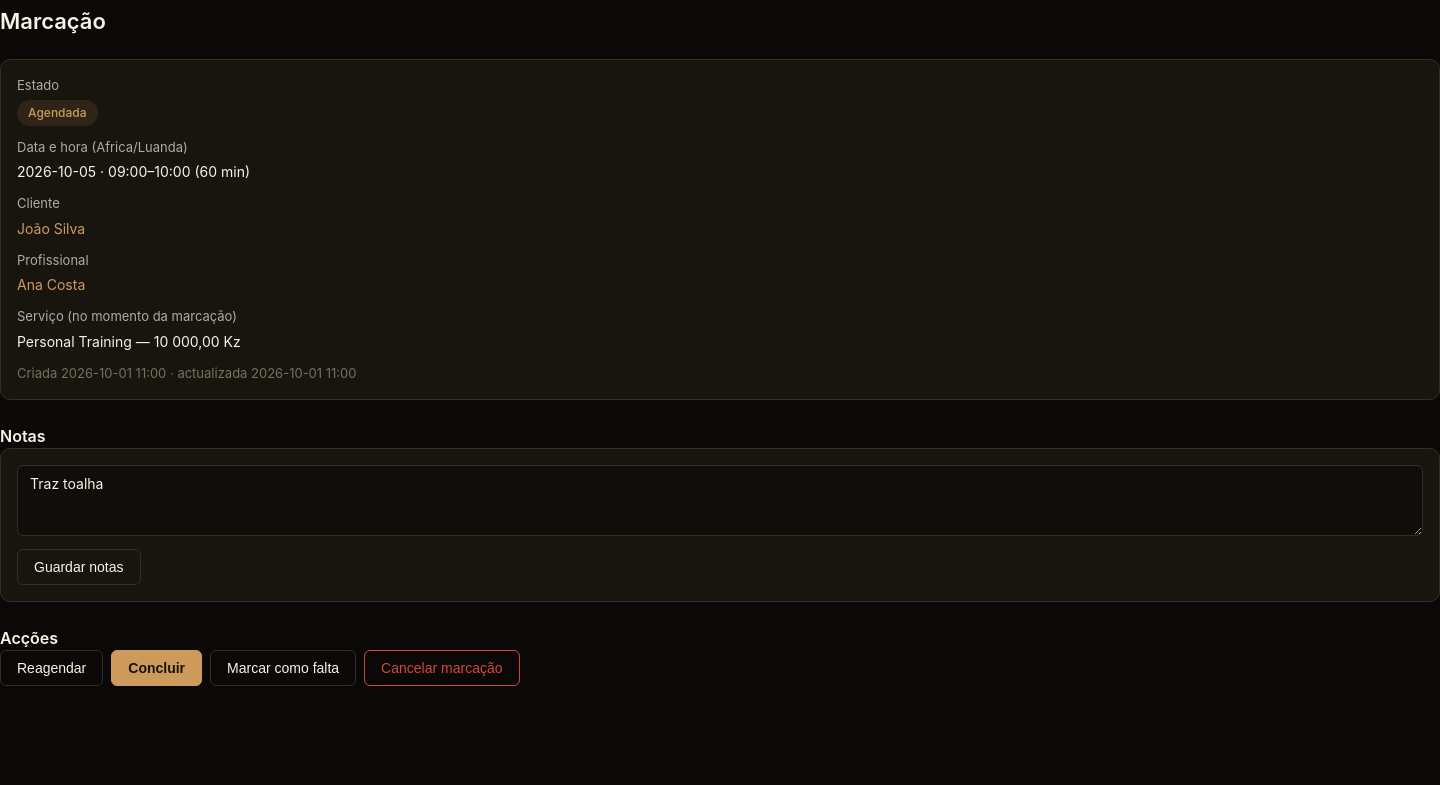
Test case: Appointment detail › reschedule: slots from the API for the SAME service; can move to another associated professional; PATCH carries only startAt/professionalId
Click the button "Reagendar": (52, 668) [0,650,103,686]
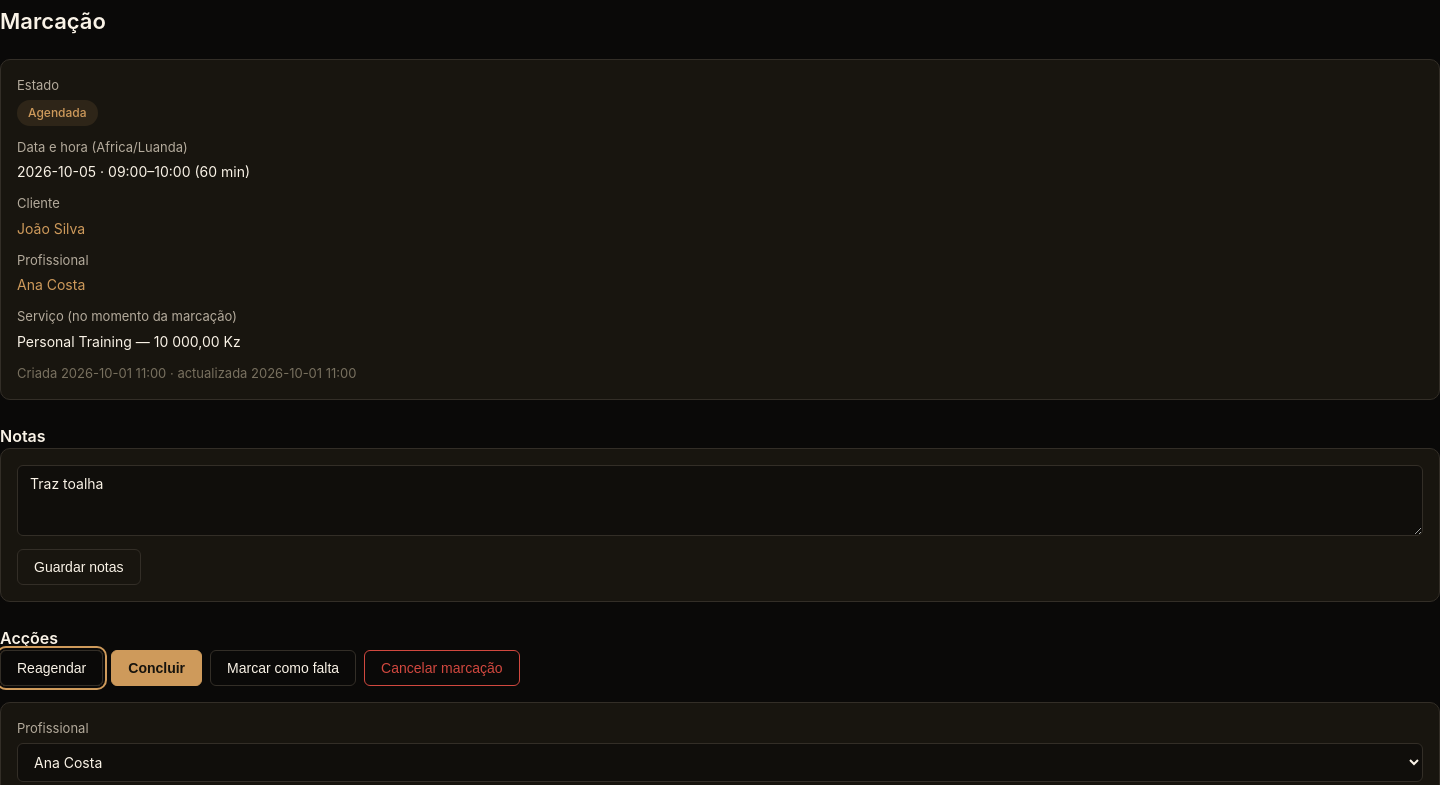
Select "Bruno Dias" in the dropdown labelled "Profissional": (720, 762) [17,743,1423,782]
(page scrolled)
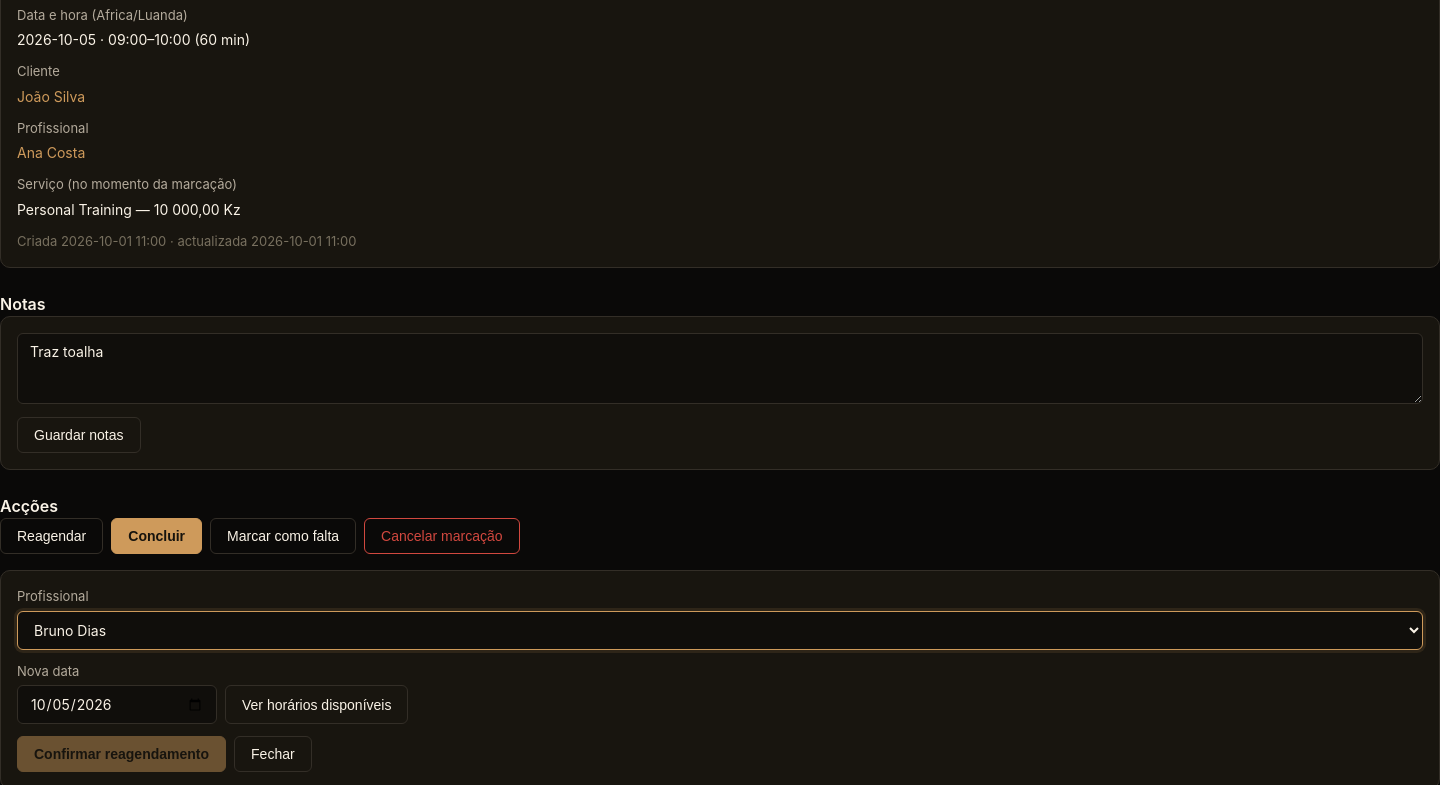
In the date field labelled "Nova data": (117, 705) [17,685,217,724], type "2026-10-06"
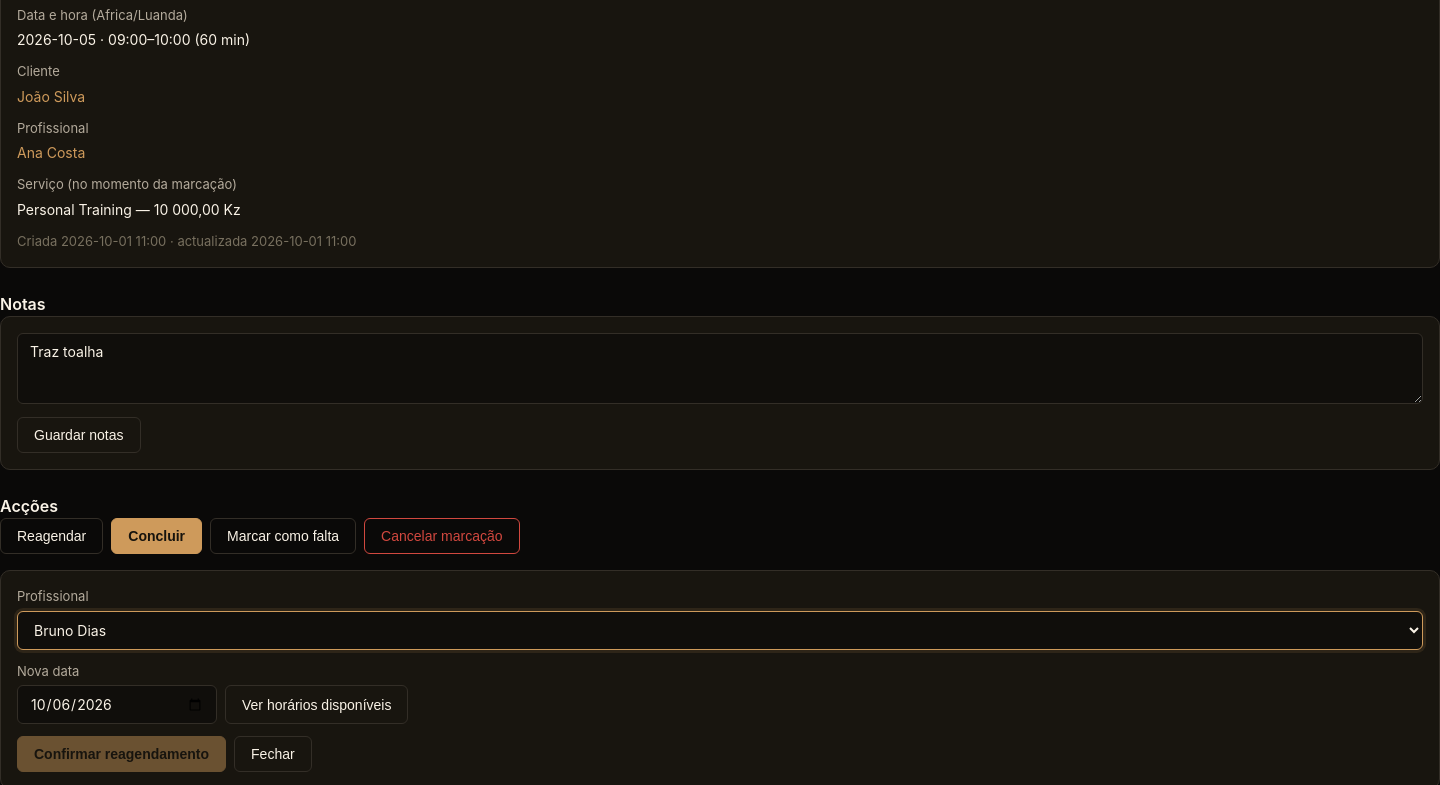
Click the button "Ver horários disponíveis": (317, 705) [225,685,408,724]
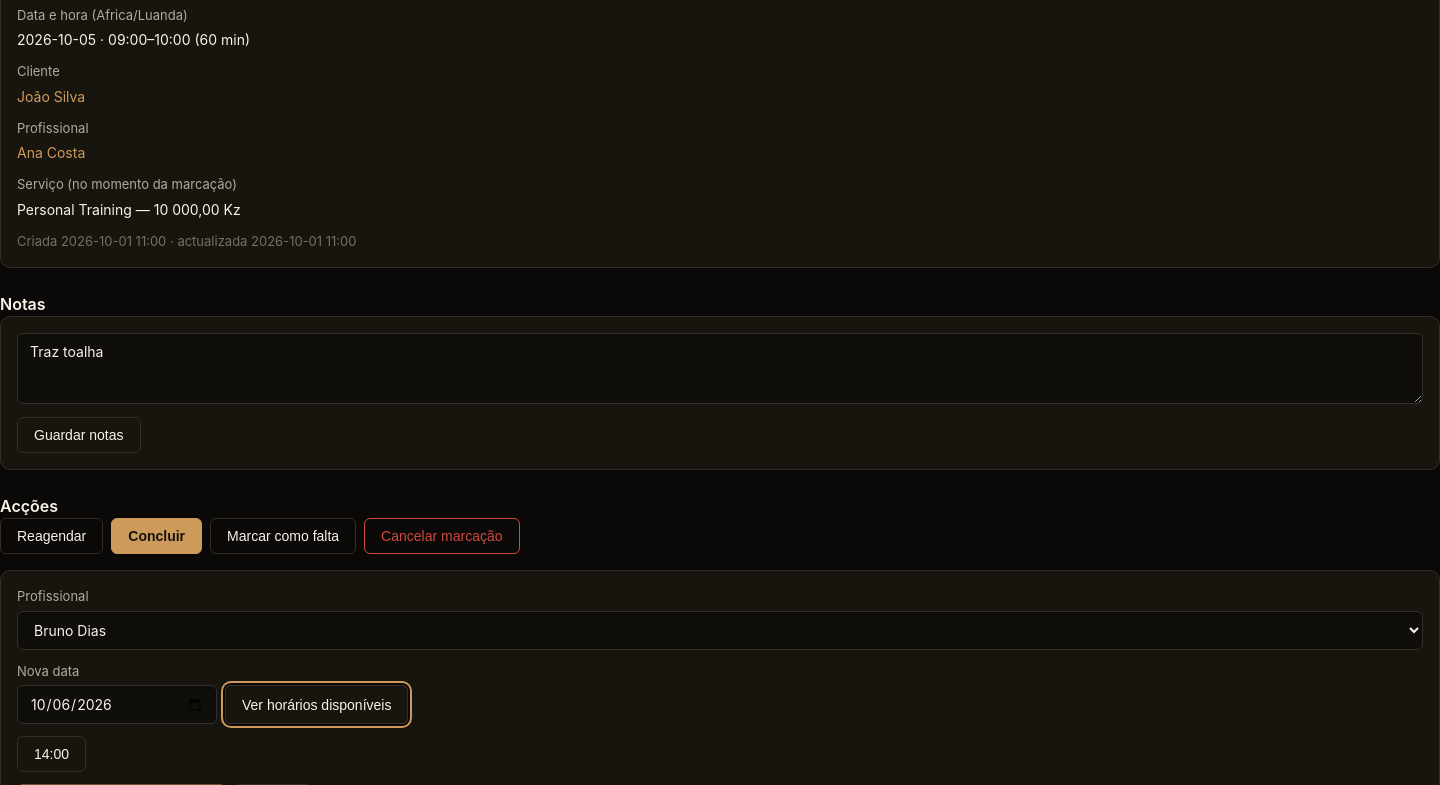
Click the radio button labelled "14:00": (52, 754) [17,736,86,772]
(page scrolled)
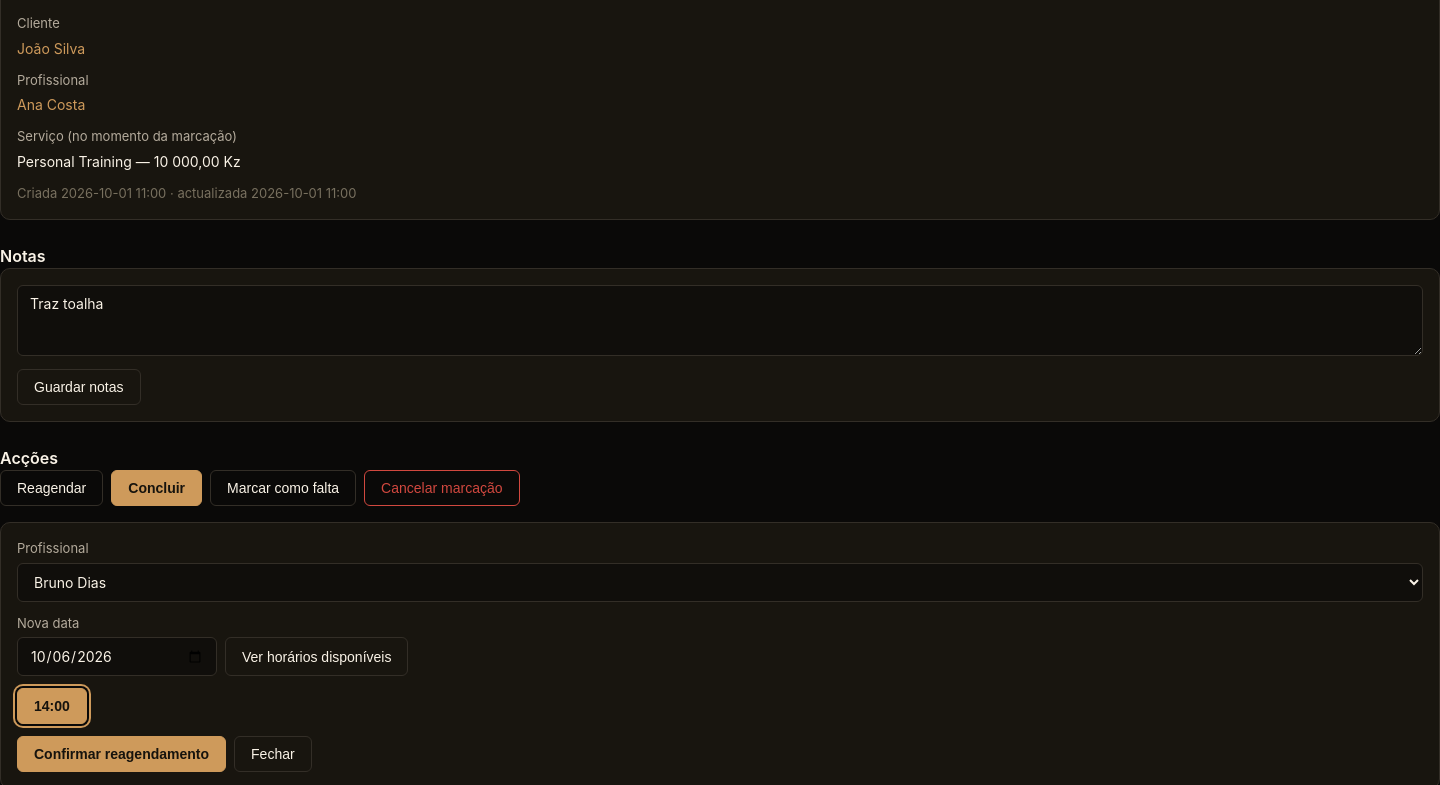
Click the button "Confirmar reagendamento": (122, 754) [17,736,226,772]
(page scrolled)
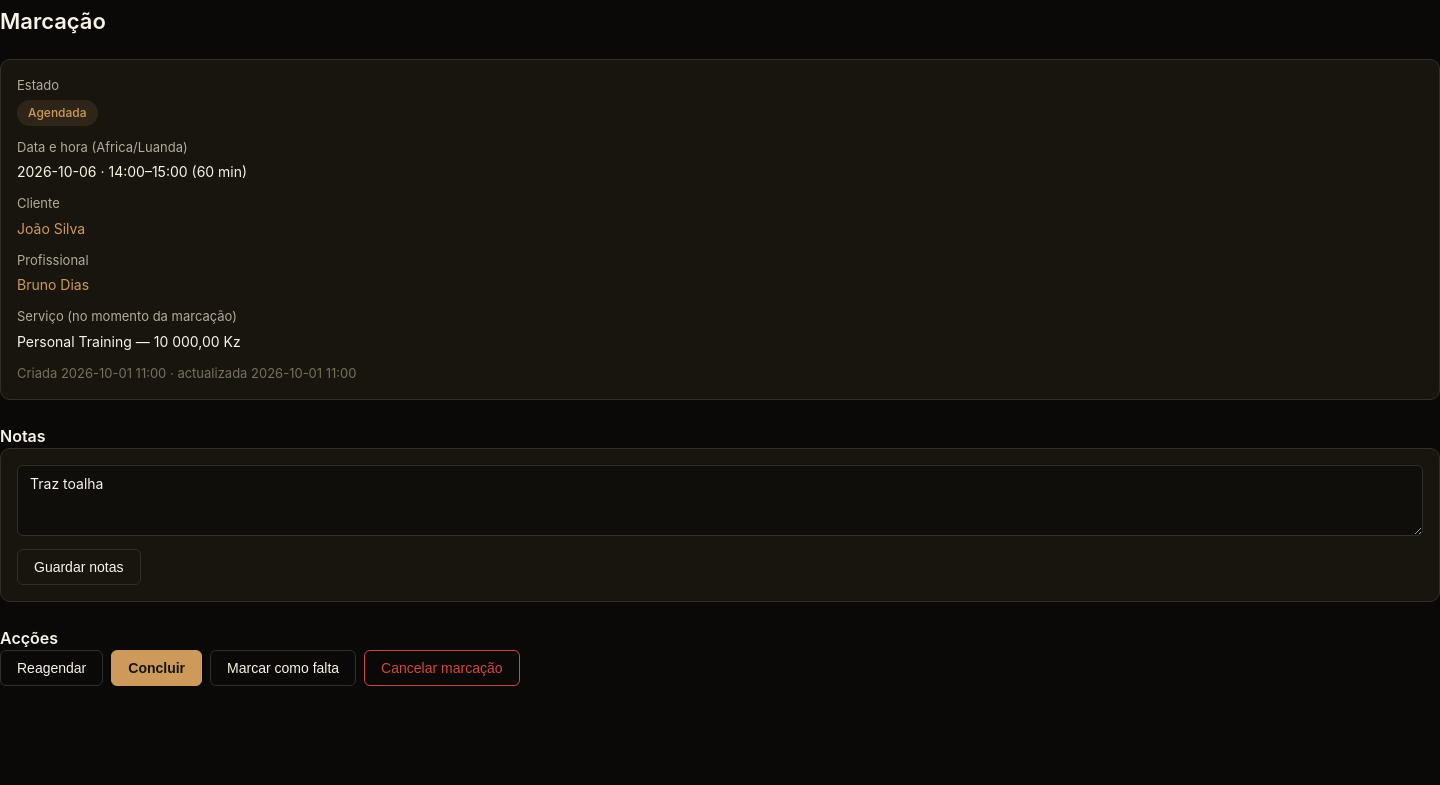
Expected: the text "2026-10-06 · 14:00–15:00 (60 min)" is shown, [17,163,247,180]
Expected: the link "Bruno Dias" is shown, [17,276,89,293]
